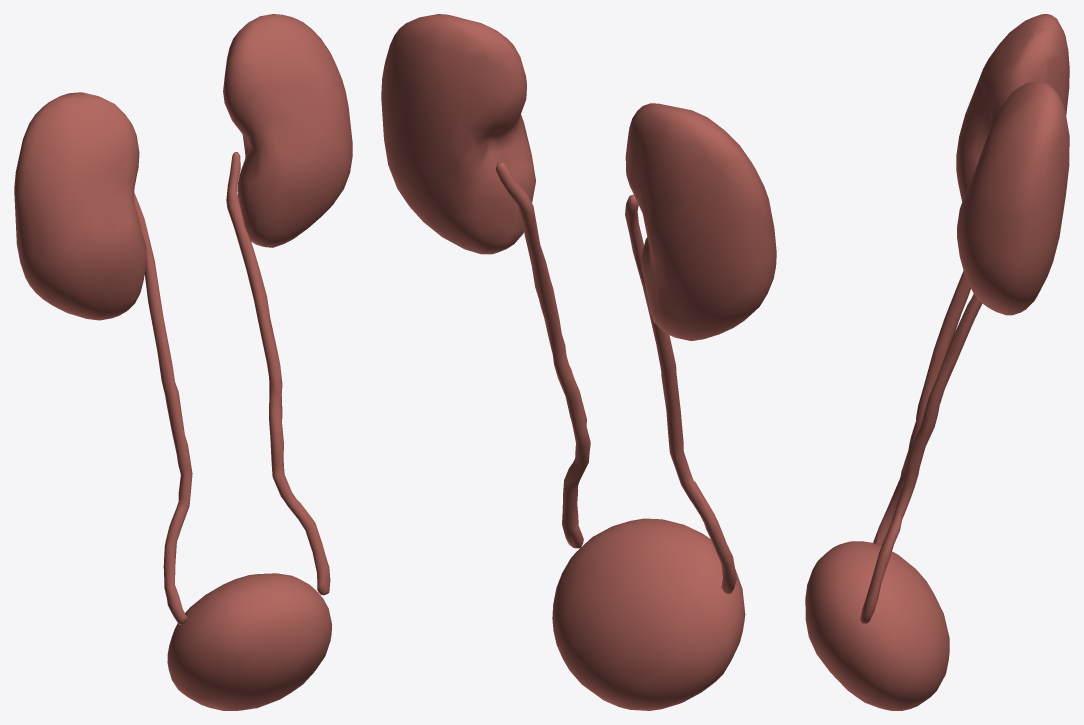
The model's file is pediatric_child_10y_female.urinary.LOD0.glb.
The picture shows the model from 3 angles, left to right: view 1: azimuth 30°, elevation 25°; view 2: azimuth 150°, elevation 25°; view 3: azimuth 270°, elevation 25°; orthographic projection. The views are drawn at different scales.
Visible parts, largest first — view 1: PEDIATRIC.CHILD_10Y.FEMALE.URINARY.KIDNEY_CORTEX.R, PEDIATRIC.CHILD_10Y.FEMALE.URINARY.KIDNEY_CORTEX.L, PEDIATRIC.CHILD_10Y.FEMALE.URINARY.URINARY_BLADDER_WALL, PEDIATRIC.CHILD_10Y.FEMALE.URINARY.URETER.L, PEDIATRIC.CHILD_10Y.FEMALE.URINARY.URETER.R; view 2: PEDIATRIC.CHILD_10Y.FEMALE.URINARY.KIDNEY_CORTEX.L, PEDIATRIC.CHILD_10Y.FEMALE.URINARY.URINARY_BLADDER_WALL, PEDIATRIC.CHILD_10Y.FEMALE.URINARY.KIDNEY_CORTEX.R, PEDIATRIC.CHILD_10Y.FEMALE.URINARY.URETER.L, PEDIATRIC.CHILD_10Y.FEMALE.URINARY.URETER.R; view 3: PEDIATRIC.CHILD_10Y.FEMALE.URINARY.KIDNEY_CORTEX.L, PEDIATRIC.CHILD_10Y.FEMALE.URINARY.URINARY_BLADDER_WALL, PEDIATRIC.CHILD_10Y.FEMALE.URINARY.KIDNEY_CORTEX.R, PEDIATRIC.CHILD_10Y.FEMALE.URINARY.URETER.L, PEDIATRIC.CHILD_10Y.FEMALE.URINARY.URETER.R.
Boxes of the visible parts, box(x1,y1,x2,y2) form: PEDIATRIC.CHILD_10Y.FEMALE.URINARY.KIDNEY_CORTEX.R: box(14, 92, 146, 320); PEDIATRIC.CHILD_10Y.FEMALE.URINARY.KIDNEY_CORTEX.L: box(223, 14, 352, 247); PEDIATRIC.CHILD_10Y.FEMALE.URINARY.URINARY_BLADDER_WALL: box(167, 573, 331, 710); PEDIATRIC.CHILD_10Y.FEMALE.URINARY.URETER.L: box(226, 152, 330, 595); PEDIATRIC.CHILD_10Y.FEMALE.URINARY.URETER.R: box(134, 193, 192, 624); PEDIATRIC.CHILD_10Y.FEMALE.URINARY.KIDNEY_CORTEX.L: box(381, 14, 535, 254); PEDIATRIC.CHILD_10Y.FEMALE.URINARY.URINARY_BLADDER_WALL: box(552, 518, 745, 710); PEDIATRIC.CHILD_10Y.FEMALE.URINARY.KIDNEY_CORTEX.R: box(625, 103, 776, 340); PEDIATRIC.CHILD_10Y.FEMALE.URINARY.URETER.L: box(496, 162, 590, 548); PEDIATRIC.CHILD_10Y.FEMALE.URINARY.URETER.R: box(625, 194, 736, 593); PEDIATRIC.CHILD_10Y.FEMALE.URINARY.KIDNEY_CORTEX.L: box(957, 82, 1069, 315); PEDIATRIC.CHILD_10Y.FEMALE.URINARY.URINARY_BLADDER_WALL: box(805, 541, 949, 710); PEDIATRIC.CHILD_10Y.FEMALE.URINARY.KIDNEY_CORTEX.R: box(956, 14, 1069, 201); PEDIATRIC.CHILD_10Y.FEMALE.URINARY.URETER.L: box(860, 294, 982, 623); PEDIATRIC.CHILD_10Y.FEMALE.URINARY.URETER.R: box(873, 271, 970, 545).
Bounding box in the file's own units: 0.1564 × 0.2808 × 0.1019.
